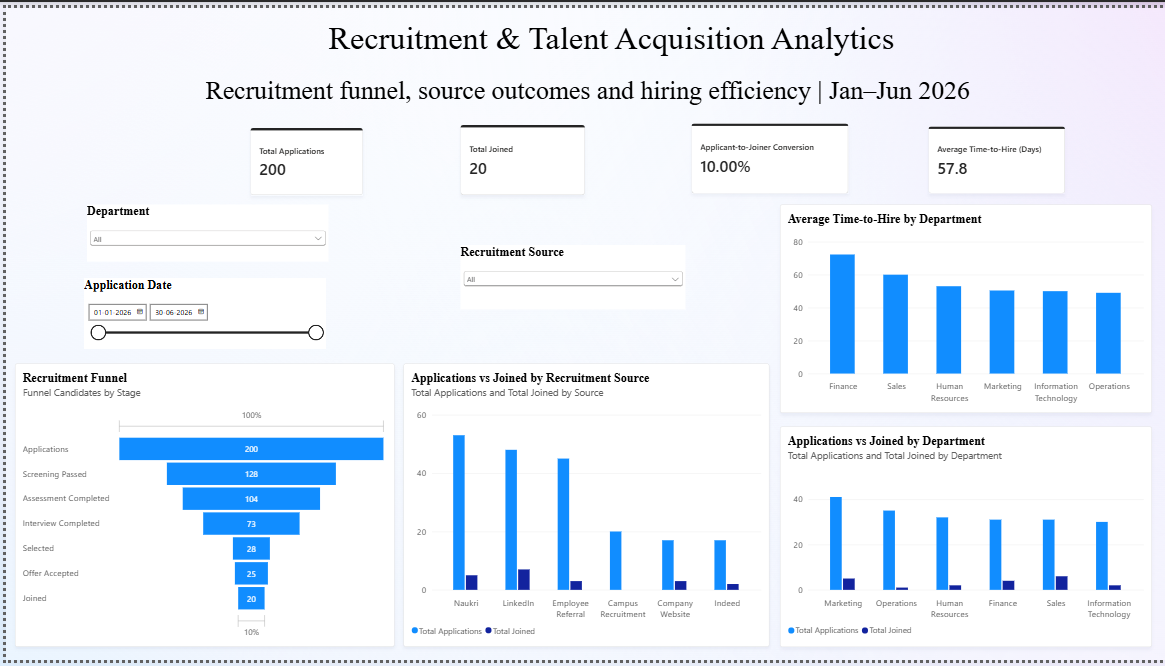

The dashboard page shown, as its layout file describes it:
{"tool":"powerbi","page":{"name":"Page 1","canvas":[1920,1080],"ordinal":0},"visuals":[{"type":"cardVisual","fields":{"Data":["Recruitment_Data.Total Applications"]},"box":[405,198.8,186.4,111.8],"z":0},{"type":"cardVisual","fields":{"Data":["Recruitment_Data.Total Joined"]},"box":[752.9,193.8,206.2,116.8],"z":1000},{"type":"cardVisual","fields":{"Data":["Recruitment_Data.Applicant-to-Joiner Conversion"]},"box":[1135.5,191.3,260.8,116.2],"z":2000},{"type":"cardVisual","fields":{"Data":["Recruitment_Data.Average Time-to-Hire"]},"box":[1528.1,196.3,226.1,111.8],"z":3000},{"type":"funnel","title":"Recruitment Funnel","fields":{"Category":["Funnel Stages.Stage"],"Y":["Funnel Stages.Funnel Candidates"]},"box":[14.9,588.9,628.6,469.6],"z":4000},{"type":"clusteredColumnChart","title":"Applications vs Joined by Recruitment Source ","fields":{"Category":["Recruitment_Data.Source"],"Y":["Recruitment_Data.Total Applications","Recruitment_Data.Total Joined"]},"box":[658.5,588.9,606.3,469.6],"z":5000},{"type":"clusteredColumnChart","title":"Applications vs Joined by Department","fields":{"Category":["Recruitment_Data.Department"],"Y":["Recruitment_Data.Total Applications","Recruitment_Data.Total Joined"]},"box":[1282.1,693.2,616.2,365.3],"z":6000},{"type":"clusteredColumnChart","title":"Average Time-to-Hire by Department","fields":{"Category":["Recruitment_Data.Department"],"Y":["Recruitment_Data.Average Time-to-Hire"]},"box":[1282.1,325.5,616.2,345.4],"z":7000},{"type":"slicer","title":"Department","fields":{"Values":["Recruitment_Data.Department"]},"box":[134.2,325.5,400,94.4],"z":8000},{"type":"slicer","title":"Recruitment Source","fields":{"Values":["Recruitment_Data.Source"]},"box":[752.9,392.6,372.7,106.8],"z":9000},{"type":"slicer","title":"Application Date","fields":{"Values":["Recruitment_Data.Application_Date"]},"box":[129.2,447.2,400,116.8],"z":10000},{"type":"textbox","box":[534.2,19.9,993.9,69.6],"z":11000},{"type":"textbox","box":[330.5,111.8,1401.4,64.6],"z":12000}]}

Visuals, with their boxes in screenshot pixels (x1, y1, x2, y2), scaled from the page's 1920x1080 canvas onto the 1165x666 screenshot:
cardVisual - Recruitment_Data.Total Applications: box=[246, 123, 359, 192]
cardVisual - Recruitment_Data.Total Joined: box=[457, 120, 582, 192]
cardVisual - Recruitment_Data.Applicant-to-Joiner Conversion: box=[689, 118, 847, 190]
cardVisual - Recruitment_Data.Average Time-to-Hire: box=[927, 121, 1064, 190]
"Recruitment Funnel" funnel: box=[9, 363, 390, 653]
"Applications vs Joined by Recruitment Source " clusteredColumnChart: box=[400, 363, 767, 653]
"Applications vs Joined by Department" clusteredColumnChart: box=[778, 427, 1152, 653]
"Average Time-to-Hire by Department" clusteredColumnChart: box=[778, 201, 1152, 414]
"Department" slicer: box=[81, 201, 324, 259]
"Recruitment Source" slicer: box=[457, 242, 683, 308]
"Application Date" slicer: box=[78, 276, 321, 348]
textbox: box=[324, 12, 927, 55]
textbox: box=[201, 69, 1051, 109]
